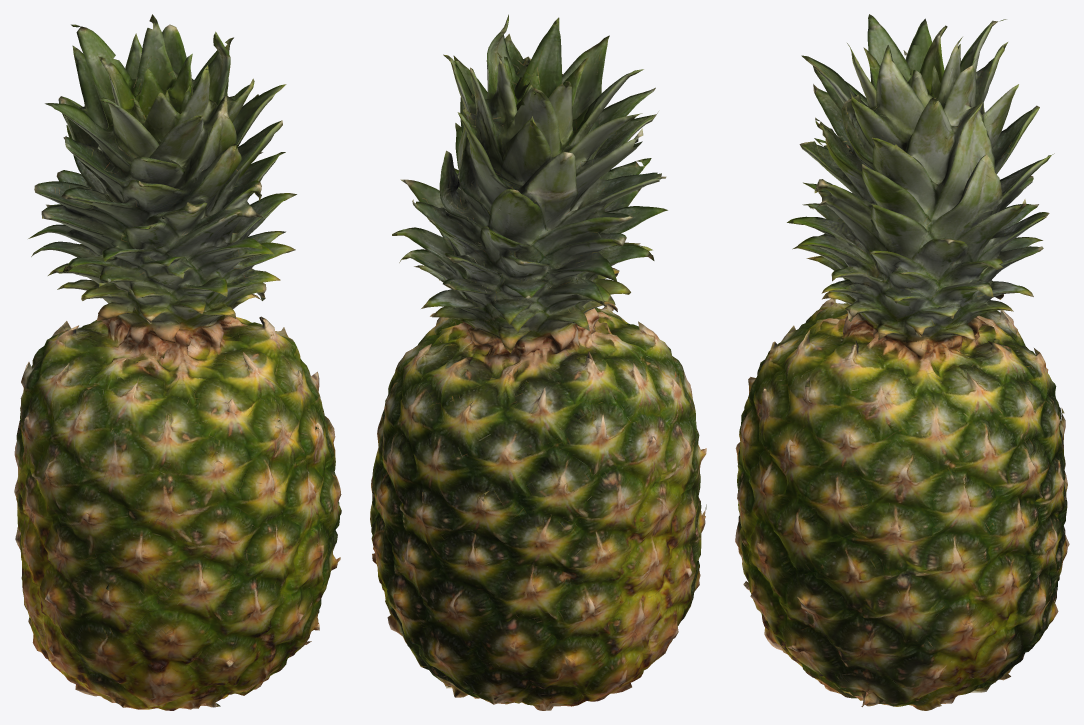
File: pineapple.glb
The picture shows the model from 3 angles, left to right: view 1: azimuth 30°, elevation 25°; view 2: azimuth 150°, elevation 25°; view 3: azimuth 270°, elevation 25°; orthographic projection.
Parts seen in each view (by area): view 1: Object_2; view 2: Object_2; view 3: Object_2.
Boxes of the visible parts, bbox=[...] form: Object_2: bbox=[14, 14, 341, 710]; Object_2: bbox=[370, 14, 706, 710]; Object_2: bbox=[735, 14, 1069, 710].
Bounding box in the file's own units: 1.49 × 3.2 × 1.5.
Materials: 1 (1 with a texture image).
